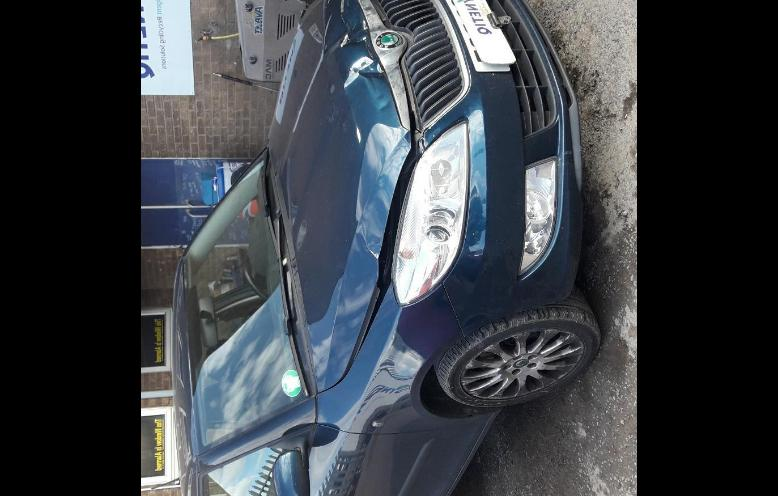Broken part: (328, 62, 422, 389)
Dent: (329, 0, 397, 113)
Flaking: (325, 103, 341, 123), (341, 119, 347, 131), (330, 82, 336, 92), (318, 120, 323, 125), (350, 142, 354, 147)
Paint chip: (357, 35, 374, 59), (363, 18, 368, 29)
Scratch: (290, 12, 333, 134), (338, 13, 351, 30), (340, 32, 350, 48), (339, 0, 345, 12), (327, 0, 330, 2)
